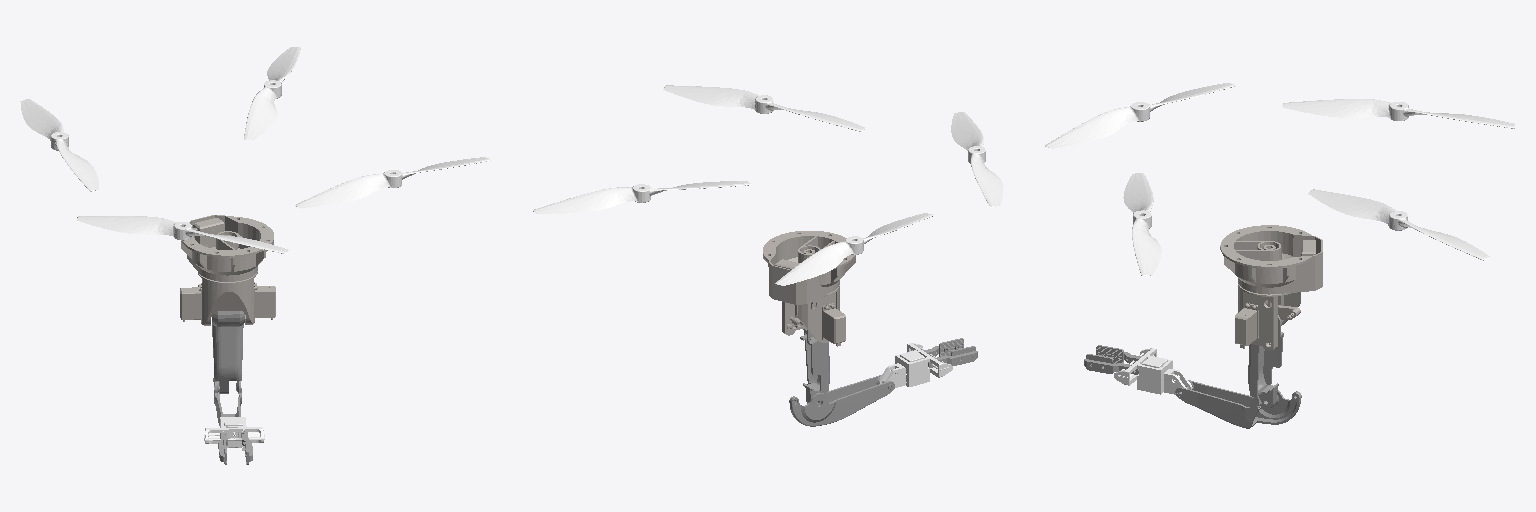
The robot description file, URDF, robot "flyarm_parallel_gripper":
<?xml version="1.0" encoding="utf-8"?>
<!-- ============================================================================
     flyarm —— 空中机械臂 (四旋翼 + 4 自由度机械臂 + 二指平行夹爪)
     由 SolidWorks (Stephen Brawner sw_urdf_exporter) 导出, 后为仿真适配修改.

     针对 IsaacLab / MuJoCo 仿真所做的修改:
       1. 修复卡死的旋翼: rr_rotor_joint 由 fixed/axis"0 0 0" 改为 continuous/"-1 0 0"
       2. 机械臂连杆/关节重命名为可读名称 (见下方对照表).
       3. 四个旋翼重命名: l22/l33/l44/l55 -> rr/fr/fl/rl_rotor (x前 y左 约定).
       4. 统一网格包路径: "package://arm/..." -> "package://flyarm/...".
       5. 机械臂自由度关节由 continuous 改为带角度限位的 revolute.
       6. D 轴 (腕) 限位收紧到 ±0.1 rad (近似固定腕).

     机械臂命名对照 (旧名 -> 新名):
       l1 -> arm_base          (机械臂固定底座, fixed mount)
       l2 -> arm_base_rotate   (旋转底座)        关节: base_rotate_joint
       l3 -> link_bc           (BC 轴连杆)       关节: axis_B_joint
       l4 -> link_cd           (CD 轴连杆)       关节: axis_C_joint
       l5 -> gripper_base      (夹爪底座)        关节: axis_D_joint
       l6 -> gripper_right     (右夹爪)          关节: gripper_right_joint
       l7 -> gripper_left      (左夹爪)          关节: gripper_left_joint

     旋翼命名对照 (旧名 -> 新名, 按安装位置 x前/y左):
       l22 (-x,-y) -> rr_rotor  关节: rr_rotor_joint   (右后)
       l33 (+x,-y) -> fr_rotor  关节: fr_rotor_joint   (右前)
       l44 (+x,+y) -> fl_rotor  关节: fl_rotor_joint   (左前)
       l55 (-x,+y) -> rl_rotor  关节: rl_rotor_joint   (左后)

     注意: 仿真请用 flyarm_sim.urdf (相对 mesh 路径). 本文件用 package:// 供网页查看器.
     <limit> 数值为占位安全值, 训练前按真实舵机行程收紧.
     ============================================================================ -->
<robot
  name="flyarm_parallel_gripper">

  <!-- ======================= 机体 ======================= -->
  <link
    name="base_link">
    <inertial>
      <origin
        xyz="0.000351127786367396 -0.000257429115357956 -0.0335575170333576"
        rpy="0 0 0" />
      <!-- base_link 质量取 2.0kg (对应真机机架约 2000g). 惯量按质量比缩放(假设质量分布不变, 上真机时用 CAD 精标). -->
      <mass
        value="2.0" />
      <inertia
        ixx="0.00278714"
        ixy="2.60343E-06"
        ixz="2.46949E-08"
        iyy="0.00136146"
        iyz="2.65360E-06"
        izz="0.00305334" />
    </inertial>
    <visual>
      <origin
        xyz="0 0 0"
        rpy="0 0 0" />
      <geometry>
        <mesh
          filename="../meshes/base_link.STL" />
      </geometry>
      <material
        name="">
        <color
          rgba="1 1 1 1" />
      </material>
    </visual>
    <!-- 保留 base_link 碰撞: 保留物理脚架(更接近真机+安全网). 脚架离地靠"直臂(arm_straight)+ 高悬停(hover_offset)"
         → 无人机不下降 → 脚架不触地, 而非靠去除碰撞实现. -->
    <collision>
      <origin xyz="0 0 0" rpy="0 0 0" />
      <geometry><mesh filename="../meshes/base_link.STL" /></geometry>
    </collision>
  </link>

  <!-- ======================= 旋翼×4 =======================
       四个旋翼自由旋转(continuous). 升力/反扭由飞控在仿真里施加, 关节轴只是可视化旋转轴. -->
  <!-- 右后 rr_rotor (原 l22) -->
  <link
    name="rr_rotor">
    <inertial>
      <origin
        xyz="0.0473353347145848 0.000197095936702529 0.000174051578952034"
        rpy="0 0 0" />
      <mass
        value="0.0229282927851813" />
      <inertia
        ixx="9.09087806405936E-05"
        ixy="5.13488235782876E-10"
        ixz="-1.07369138950175E-09"
        iyy="5.57789393210295E-05"
        iyz="4.31406386140824E-05"
        izz="3.5909689375767E-05" />
    </inertial>
    <visual>
      <origin
        xyz="0 0 0"
        rpy="0 0 0" />
      <geometry>
        <mesh
          filename="../meshes/rr_rotor.STL" />
      </geometry>
      <material
        name="">
        <color
          rgba="1 1 1 1" />
      </material>
    </visual>
    <collision>
      <origin
        xyz="0 0 0"
        rpy="0 0 0" />
      <geometry>
        <mesh
          filename="../meshes/rr_rotor.STL" />
      </geometry>
    </collision>
  </link>
  <!-- 修正: 原为 fixed / axis="0 0 0" (该旋翼无法转动), 现改为 continuous -->
  <joint
    name="rr_rotor_joint"
    type="continuous">
    <origin
      xyz="-0.170163131133237 -0.170201542587365 0.0708"
      rpy="1.5707963267949 -1.5707963267949 0" />
    <parent
      link="base_link" />
    <child
      link="rr_rotor" />
    <axis
      xyz="-1 0 0" />
  </joint>

  <!-- 右前 fr_rotor (原 l33) -->
  <link
    name="fr_rotor">
    <inertial>
      <origin
        xyz="0.0473275810559199 -0.000467343845156593 -0.000751366737984482"
        rpy="0 0 0" />
      <mass
        value="0.0229273353251971" />
      <inertia
        ixx="9.08987166445279E-05"
        ixy="-9.4681308528274E-07"
        ixz="-3.211560706351E-08"
        iyy="1.64331076850008E-06"
        iyz="-2.2803035789249E-06"
        izz="9.00554487876853E-05" />
    </inertial>
    <visual>
      <origin
        xyz="0 0 0"
        rpy="0 0 0" />
      <geometry>
        <mesh
          filename="../meshes/fr_rotor.STL" />
      </geometry>
      <material
        name="">
        <color
          rgba="1 1 1 1" />
      </material>
    </visual>
    <collision>
      <origin
        xyz="0 0 0"
        rpy="0 0 0" />
      <geometry>
        <mesh
          filename="../meshes/fr_rotor.STL" />
      </geometry>
    </collision>
  </link>
  <joint
    name="fr_rotor_joint"
    type="continuous">
    <origin
      xyz="0.168176808521089 -0.168048450980534 0.0707991465916544"
      rpy="1.5707963267949 -1.5707963267949 0" />
    <parent
      link="base_link" />
    <child
      link="fr_rotor" />
    <axis
      xyz="-1 0 0" />
  </joint>

  <!-- 左前 fl_rotor (原 l44) -->
  <link
    name="fl_rotor">
    <inertial>
      <origin
        xyz="0.0473353117833849 0.000202037047005471 -0.000168240650222473"
        rpy="0 0 0" />
      <mass
        value="0.0229281784444268" />
      <inertia
        ixx="9.09077649282057E-05"
        ixy="-9.74921530361897E-10"
        ixz="-6.67623680368692E-10"
        iyy="4.93864891618474E-05"
        iyz="-4.41273182457583E-05"
        izz="4.23011092928309E-05" />
    </inertial>
    <visual>
      <origin
        xyz="0 0 0"
        rpy="0 0 0" />
      <geometry>
        <mesh
          filename="../meshes/fl_rotor.STL" />
      </geometry>
      <material
        name="">
        <color
          rgba="1 1 1 1" />
      </material>
    </visual>
    <collision>
      <origin
        xyz="0 0 0"
        rpy="0 0 0" />
      <geometry>
        <mesh
          filename="../meshes/fl_rotor.STL" />
      </geometry>
    </collision>
  </link>
  <joint
    name="fl_rotor_joint"
    type="continuous">
    <origin
      xyz="0.170164649982814 0.17012623852867 0.0708"
      rpy="1.5707963267949 -1.5707963267949 0" />
    <parent
      link="base_link" />
    <child
      link="fl_rotor" />
    <axis
      xyz="-1 0 0" />
  </joint>

  <!-- 左后 rl_rotor (原 l55) -->
  <link
    name="rl_rotor">
    <inertial>
      <origin
        xyz="0.0473351076739079 -0.000259129949975956 4.45263675536989E-05"
        rpy="0 0 0" />
      <mass
        value="0.0229274907678625" />
      <inertia
        ixx="9.09084868706134E-05"
        ixy="5.14458621610906E-10"
        ixz="1.07562148698373E-09"
        iyy="8.5845577951234E-05"
        iyz="-1.89654922420876E-05"
        izz="5.842688609076E-06" />
    </inertial>
    <visual>
      <origin
        xyz="0 0 0"
        rpy="0 0 0" />
      <geometry>
        <mesh
          filename="../meshes/rl_rotor.STL" />
      </geometry>
      <material
        name="">
        <color
          rgba="1 1 1 1" />
      </material>
    </visual>
    <collision>
      <origin
        xyz="0 0 0"
        rpy="0 0 0" />
      <geometry>
        <mesh
          filename="../meshes/rl_rotor.STL" />
      </geometry>
    </collision>
  </link>
  <joint
    name="rl_rotor_joint"
    type="continuous">
    <origin
      xyz="-0.170871594249042 0.170834701644432 0.0708"
      rpy="1.5707963267949 -1.5707963267949 0" />
    <parent
      link="base_link" />
    <child
      link="rl_rotor" />
    <axis
      xyz="-1 0 0" />
  </joint>

  <!-- ======================= 机械臂 =======================
       链: base_link -(arm_mount)-> arm_base -(base_rotate)-> arm_base_rotate
           -(axis_B)-> link_bc -(axis_C)-> link_cd -(axis_D)-> gripper_base
           -(gripper_right / gripper_left)-> 两指
       关节正方向沿 axis="-1 0 0" (绕局部 -X). -->

  <!-- l1 : 机械臂固定底座 (固连在无人机下方) -->
  <link
    name="arm_base">
    <inertial>
      <origin
        xyz="-0.0083485309775336 0.000154996776270776 0.0259797943306873"
        rpy="0 0 0" />
      <mass
        value="0.272894323468001" />
      <inertia
        ixx="0.000188019850509716"
        ixy="2.3204599431514E-07"
        ixz="1.45801251226452E-05"
        iyy="0.000210926622774998"
        iyz="-1.06345721979206E-07"
        izz="0.000310160657895025" />
    </inertial>
    <visual>
      <origin
        xyz="0 0 0"
        rpy="0 0 0" />
      <geometry>
        <mesh
          filename="../meshes/arm_base.STL" />
      </geometry>
      <material
        name="">
        <color
          rgba="0.776470588235294 0.756862745098039 0.737254901960784 1" />
      </material>
    </visual>
    <collision>
      <origin
        xyz="0 0 0"
        rpy="0 0 0" />
      <geometry>
        <mesh
          filename="../meshes/arm_base.STL" />
      </geometry>
    </collision>
  </link>
  <!-- j00 : 机械臂刚性固连到机体 -->
  <joint
    name="arm_mount_joint"
    type="fixed">
    <origin
      xyz="0 0 0"
      rpy="3.14 0 -1.57" />
    <parent
      link="base_link" />
    <child
      link="arm_base" />
    <axis
      xyz="0 0 0" />
  </joint>

  <!-- l2 : 旋转底座 -->
  <link
    name="arm_base_rotate">
    <inertial>
      <origin
        xyz="0.0359439762293015 -0.00713462357357059 -0.00308284931111787"
        rpy="0 0 0" />
      <mass
        value="0.191533351388813" />
      <inertia
        ixx="0.000107090640010156"
        ixy="9.5354041509615E-07"
        ixz="-4.44253031875453E-06"
        iyy="0.000134604517947024"
        iyz="9.66928729492876E-06"
        izz="0.000116154179587917" />
    </inertial>
    <visual>
      <origin
        xyz="0 0 0"
        rpy="0 0 0" />
      <geometry>
        <mesh
          filename="../meshes/arm_base_rotate.STL" />
      </geometry>
      <material
        name="">
        <color
          rgba="0.776470588235294 0.756862745098039 0.737254901960784 1" />
      </material>
    </visual>
    <collision>
      <origin
        xyz="0 0 0"
        rpy="0 0 0" />
      <geometry>
        <mesh
          filename="../meshes/arm_base_rotate.STL" />
      </geometry>
    </collision>
  </link>
  <!-- j2 : 底座旋转 (整臂偏航), 范围大 -->
  <joint
    name="base_rotate_joint"
    type="revolute">
    <origin
      xyz="0 0 0.0504999999999999"
      rpy="1.5707963267949 -1.5707963267949 0" />
    <parent
      link="arm_base" />
    <child
      link="arm_base_rotate" />
    <axis
      xyz="-1 0 0" />
    <limit
      lower="-3.14159"
      upper="3.14159"
      effort="10"
      velocity="6.28" />
    <dynamics
      damping="0.1"
      friction="0.0" />
  </joint>

  <!-- l3 : BC 轴连杆 -->
  <link
    name="link_bc">
    <inertial>
      <origin
        xyz="0.0165075601084717 0.0473372214162494 -0.00476164013502745"
        rpy="0 0 0" />
      <mass
        value="0.0565655004543067" />
      <inertia
        ixx="0.000103481838185612"
        ixy="5.35024877797434E-06"
        ixz="9.01545719378009E-07"
        iyy="1.5531248902396E-05"
        iyz="-4.46160971196172E-06"
        izz="0.000106991404292056" />
    </inertial>
    <visual>
      <origin
        xyz="0 0 0"
        rpy="0 0 0" />
      <geometry>
        <mesh
          filename="../meshes/link_bc.STL" />
      </geometry>
      <material
        name="">
        <color
          rgba="0.698039215686274 0.698039215686274 0.698039215686274 1" />
      </material>
    </visual>
    <collision>
      <origin
        xyz="0 0 0"
        rpy="0 0 0" />
      <geometry>
        <mesh
          filename="../meshes/link_bc.STL" />
      </geometry>
    </collision>
  </link>
  <!-- j3 : B 轴 -->
  <joint
    name="axis_B_joint"
    type="revolute">
    <origin
      xyz="0.055999999999994 0.000382836228957711 -0.0194205883228549"
      rpy="0 -1.09630311786825 -1.5707963267949" />
    <parent
      link="arm_base_rotate" />
    <child
      link="link_bc" />
    <axis
      xyz="-1 0 0" />
    <limit
      lower="-2.61799"
      upper="2.61799"
      effort="10"
      velocity="6.28" />
    <dynamics
      damping="0.1"
      friction="0.0" />
  </joint>

  <!-- l4 : CD 轴连杆 -->
  <link
    name="link_cd">
    <inertial>
      <origin
        xyz="-0.0154905535289683 0.0154928277803316 -0.0387592194782328"
        rpy="0 0 0" />
      <mass
        value="0.0370929114993028" />
      <inertia
        ixx="7.10283674427326E-05"
        ixy="-4.5211030823379E-07"
        ixz="6.62959517460371E-06"
        iyy="7.16905054596082E-05"
        iyz="1.24835133153328E-06"
        izz="1.19965985824017E-05" />
    </inertial>
    <visual>
      <origin
        xyz="0 0 0"
        rpy="0 0 0" />
      <geometry>
        <mesh
          filename="../meshes/link_cd.STL" />
      </geometry>
      <material
        name="">
        <color
          rgba="0.698039215686274 0.698039215686274 0.698039215686274 1" />
      </material>
    </visual>
    <collision>
      <origin
        xyz="0 0 0"
        rpy="0 0 0" />
      <geometry>
        <mesh
          filename="../meshes/link_cd.STL" />
      </geometry>
    </collision>
  </link>
  <!-- j4 : C 轴 -->
  <joint
    name="axis_C_joint"
    type="revolute">
    <origin
      xyz="0.0294500000000001 0.119941950317014 0.00373209782198392"
      rpy="0 0 0" />
    <parent
      link="link_bc" />
    <child
      link="link_cd" />
    <axis
      xyz="-1 0 0" />
    <limit
      lower="-2.61799"
      upper="2.61799"
      effort="10"
      velocity="6.28" />
    <dynamics
      damping="0.1"
      friction="0.0" />
  </joint>
  <!-- ======================= 平行夹爪 =======================
       平行夹爪由独立的 gripperurdf 工程导出, 嫁接到 gripper_base 处替换原夹爪子树.
       SolidWorks 导出时夹爪处于闭合姿态, 故 gripper_left/right_joint = 0 表示闭合.
       导出的 left_finger/right_finger 重命名为 gripper_left/gripper_right 以兼容仿真代码. -->
  <!-- axis_D_joint 保持在真实的 link_cd 腕轴上, 新夹爪的安装位姿由下方的 fixed 安装关节施加. -->
  <link name="gripper_mount">
    <inertial>
      <origin xyz="0 0 0" rpy="0 0 0" />
      <mass value="0.001" />
      <inertia ixx="1e-7" ixy="0" ixz="0" iyy="1e-7" iyz="0" izz="1e-7" />
    </inertial>
  </link>

 <link
    name="gripper_base">
    <inertial>
      <origin
        xyz="0.044149 -0.00010515 0.012529"
        rpy="0 0 0" />
      <mass
        value="0.064342" />
      <inertia
        ixx="1.8571E-05"
        ixy="-7.3559E-09"
        ixz="-6.1987E-07"
        iyy="1.4672E-05"
        iyz="1.8228E-09"
        izz="2.1739E-05" />
    </inertial>
    <visual>
      <origin
        xyz="0 0 0"
        rpy="0 0 0" />
      <geometry>
        <mesh
          filename="../meshes/parallel_gripper/pg_gripper_base.STL" />
      </geometry>
      <material
        name="">
        <color
          rgba="1 1 1 1" />
      </material>
    </visual>
    <collision>
      <origin
        xyz="0 0 0"
        rpy="0 0 0" />
      <geometry>
        <mesh
          filename="../meshes/parallel_gripper/pg_gripper_base.STL" />
      </geometry>
    </collision>
  </link>

<!-- j5 : D 轴 (腕) — 行程很小 ±0.1rad(±5.7°), 近似固定. 按真实机构调整 -->
  <joint
    name="axis_D_joint"
    type="revolute">
    <!-- 朝向修正: 新平行夹爪沿自身 +X 伸出, 而原夹爪朝 -Z(下方).
         axis_D 的 origin 与原夹爪安装位保持一致, 夹爪的旋转朝向由下方 fixed 安装关节统一施加.
         在网页 viewer 中应看到: 夹爪朝下、两指沿水平轴张开, 拖动 joint 0→0.017 两指张开. -->
    <origin
      xyz="0.000800000000000052 0.00740154405860555 -0.119771520594624"
      rpy="0 0 0" />
    <parent
      link="link_cd" />
    <child
      link="gripper_mount" />
    <axis
      xyz="-1 0 0" />
    <limit
      lower="-0.1"
      upper="0.1"
      effort="10"
      velocity="6.28" />
    <dynamics
      damping="0.1"
      friction="0.0" />
  </joint>

  <!-- 由真实腕轴到导出的平行夹爪坐标系的固定安装关节.
       沿腕轴方向的 -0.013m 偏移使夹爪安装叉耳居中套到 link_cd 末端轴线上. -->
  <joint
    name="parallel_gripper_mount_joint"
    type="fixed">
    <origin
      xyz="-0.013 0 0"
      rpy="1.5708 1.5708 0" />
    <parent
      link="gripper_mount" />
    <child
      link="gripper_base" />
  </joint>

<link
    name="gripper_left">
    <inertial>
      <origin
        xyz="0.022796 -0.0023995 -0.00090228"
        rpy="0 0 0" />
      <mass
        value="0.0084174" />
      <inertia
        ixx="2.3149E-07"
        ixy="2.5658E-07"
        ixz="1.1766E-07"
        iyy="3.3019E-06"
        iyz="-1.0155E-08"
        izz="3.1997E-06" />
    </inertial>
    <visual>
      <origin
        xyz="0 0 0"
        rpy="0 0 0" />
      <geometry>
        <mesh
          filename="../meshes/parallel_gripper/pg_left_finger.STL" />
      </geometry>
      <material
        name="">
        <color
          rgba="0.69804 0.69804 0.69804 1" />
      </material>
    </visual>
    <collision>
      <origin
        xyz="0 0 0"
        rpy="0 0 0" />
      <geometry>
        <mesh
          filename="../meshes/parallel_gripper/pg_left_finger.STL" />
      </geometry>
    </collision>
  </link>
  <joint
    name="gripper_left_joint"
    type="prismatic">
    <origin
      xyz="0.081462 -0.014745 0.019616"
      rpy="0 0 0" />
    <parent
      link="gripper_base" />
    <child
      link="gripper_left" />
    <axis
      xyz="0 -1 0" />
    <limit
      lower="0"
      upper="0.017"
      effort="20"
      velocity="0.1" />
  </joint>
  <link
    name="gripper_right">
    <inertial>
      <origin
        xyz="0.022796 0.0023995 -0.00090223"
        rpy="0 0 0" />
      <mass
        value="0.0084174" />
      <inertia
        ixx="2.3149E-07"
        ixy="-2.5658E-07"
        ixz="1.1767E-07"
        iyy="3.3019E-06"
        iyz="1.0156E-08"
        izz="3.1997E-06" />
    </inertial>
    <visual>
      <origin
        xyz="0 0 0"
        rpy="0 0 0" />
      <geometry>
        <mesh
          filename="../meshes/parallel_gripper/pg_right_finger.STL" />
      </geometry>
      <material
        name="">
        <color
          rgba="0.69804 0.69804 0.69804 1" />
      </material>
    </visual>
    <collision>
      <origin
        xyz="0 0 0"
        rpy="0 0 0" />
      <geometry>
        <mesh
          filename="../meshes/parallel_gripper/pg_right_finger.STL" />
      </geometry>
    </collision>
  </link>
  <joint
    name="gripper_right_joint"
    type="prismatic">
    <origin
      xyz="0.081462 0.014351 0.019616"
      rpy="0 0 0" />
    <parent
      link="gripper_base" />
    <child
      link="gripper_right" />
    <axis
      xyz="0 1 0" />
    <limit
      lower="0"
      upper="0.017"
      effort="20"
      velocity="0.1" />
  </joint>

</robot>

--- Render facts (derived) ---
Views: 3 orthographic renders of the robot side by side, from view 1: azimuth 30°, elevation 25°; view 2: azimuth 150°, elevation 25°; view 3: azimuth 270°, elevation 25°.
Robot: flyarm_parallel_gripper — 13 links, 12 joints (4 revolute, 4 continuous, 2 prismatic, 2 fixed); root link base_link; default pose: all joints at 0.
Visible links, largest first — view 1: arm_base, arm_base_rotate, rr_rotor, link_bc, fr_rotor, fl_rotor, rl_rotor, gripper_base; view 2: arm_base, link_cd, arm_base_rotate, fl_rotor, fr_rotor, rl_rotor, rr_rotor, gripper_base, link_bc; view 3: arm_base, link_cd, arm_base_rotate, rl_rotor, rr_rotor, fl_rotor, fr_rotor, gripper_base, link_bc, gripper_right.
Boxes of the visible links, <box> form: arm_base: <box>181,215,273,281</box>; arm_base_rotate: <box>180,271,275,325</box>; rr_rotor: <box>77,216,288,253</box>; link_bc: <box>212,311,244,393</box>; fr_rotor: <box>295,157,490,208</box>; fl_rotor: <box>244,47,300,139</box>; rl_rotor: <box>20,99,98,191</box>; gripper_base: <box>204,417,264,450</box>; arm_base: <box>763,231,855,304</box>; link_cd: <box>789,375,894,426</box>; arm_base_rotate: <box>782,285,845,346</box>; fl_rotor: <box>533,181,750,213</box>; fr_rotor: <box>663,85,864,131</box>; rl_rotor: <box>775,213,933,285</box>; rr_rotor: <box>951,112,1003,206</box>; gripper_base: <box>878,343,952,387</box>; link_bc: <box>795,313,829,403</box>; arm_base: <box>1220,225,1322,294</box>; link_cd: <box>1175,380,1301,428</box>; arm_base_rotate: <box>1235,284,1300,350</box>; rl_rotor: <box>1283,99,1514,128</box>; rr_rotor: <box>1045,83,1235,148</box>; fl_rotor: <box>1308,189,1489,260</box>; fr_rotor: <box>1123,173,1161,275</box>; gripper_base: <box>1114,348,1192,394</box>; link_bc: <box>1248,315,1283,408</box>; gripper_right: <box>1084,354,1138,374</box>.
Bounding box of the posed robot: 0.6005 × 0.6209 × 0.3909 m (x, y, z).
11 mesh visuals loaded from 12 distinct referenced files (11 binary STL); not drawn: 1 (reference not matched to a file when rendering).
